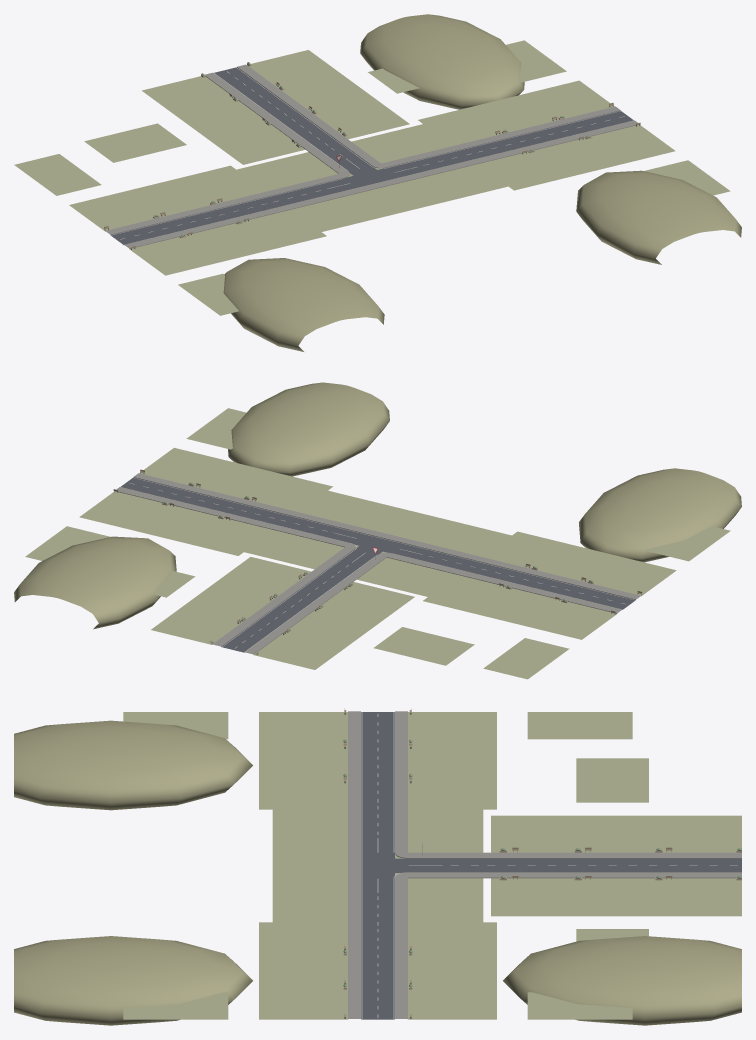
The picture shows the model from 3 angles, top to bottom: view 1: azimuth 30°, elevation 25°; view 2: azimuth 150°, elevation 25°; view 3: azimuth 270°, elevation 25°; orthographic projection. The views are drawn at different scales.
Visible parts, largest first — view 1: static; view 2: static; view 3: static.
Boxes of the visible parts, x1,y1,x2,y2 form: static: (14,14,741,351); static: (14,382,741,679); static: (14,708,741,1025).
Size of what is drawn, in the model's own units: 180 by 14.08 by 180.
3 materials, 2 textured.
